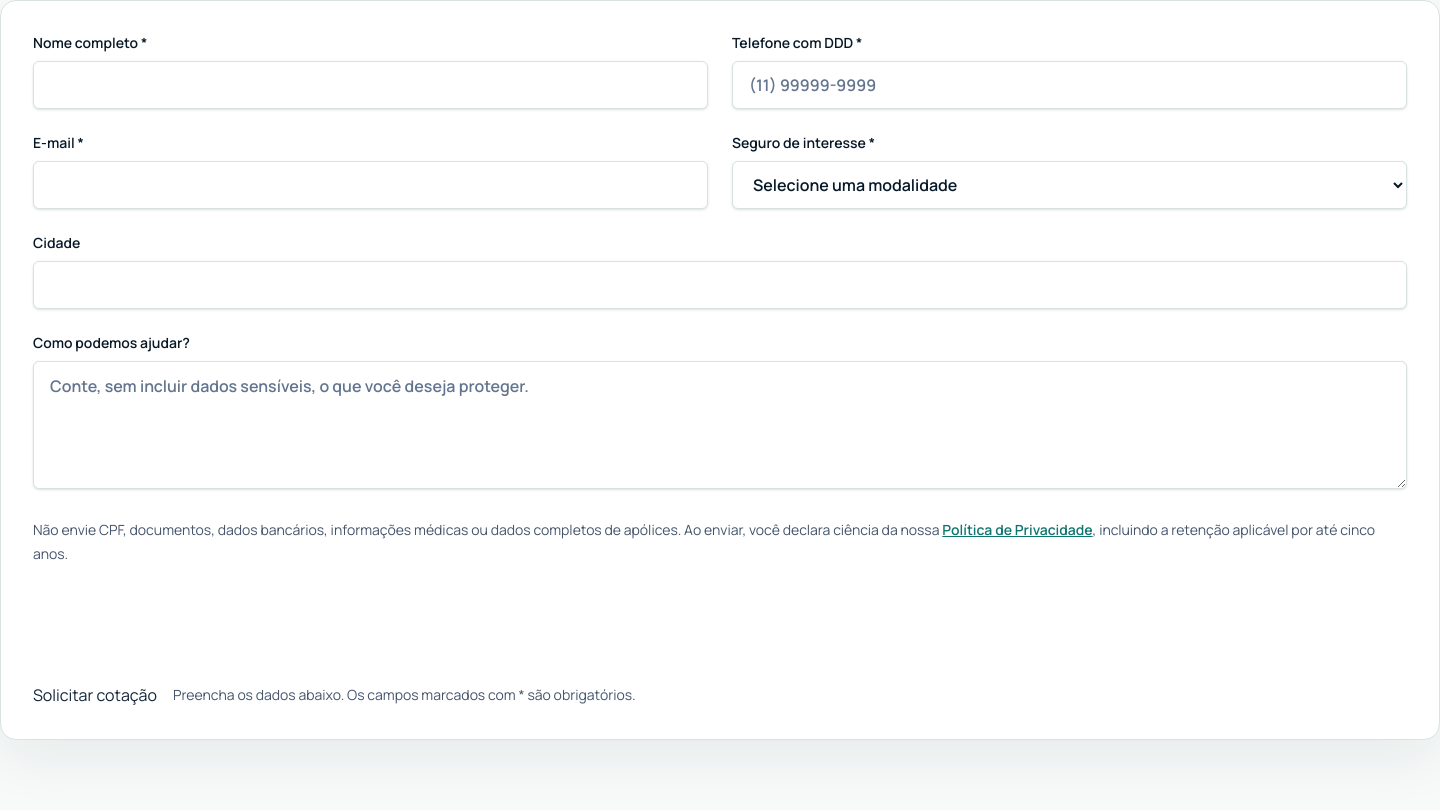
Test case: QuoteForm › envia somente após a verificação e confirma o recebimento
Type "Pessoa Exemplo" into the field labelled "Nome completo *" at (370, 85), box [33,61,708,109]
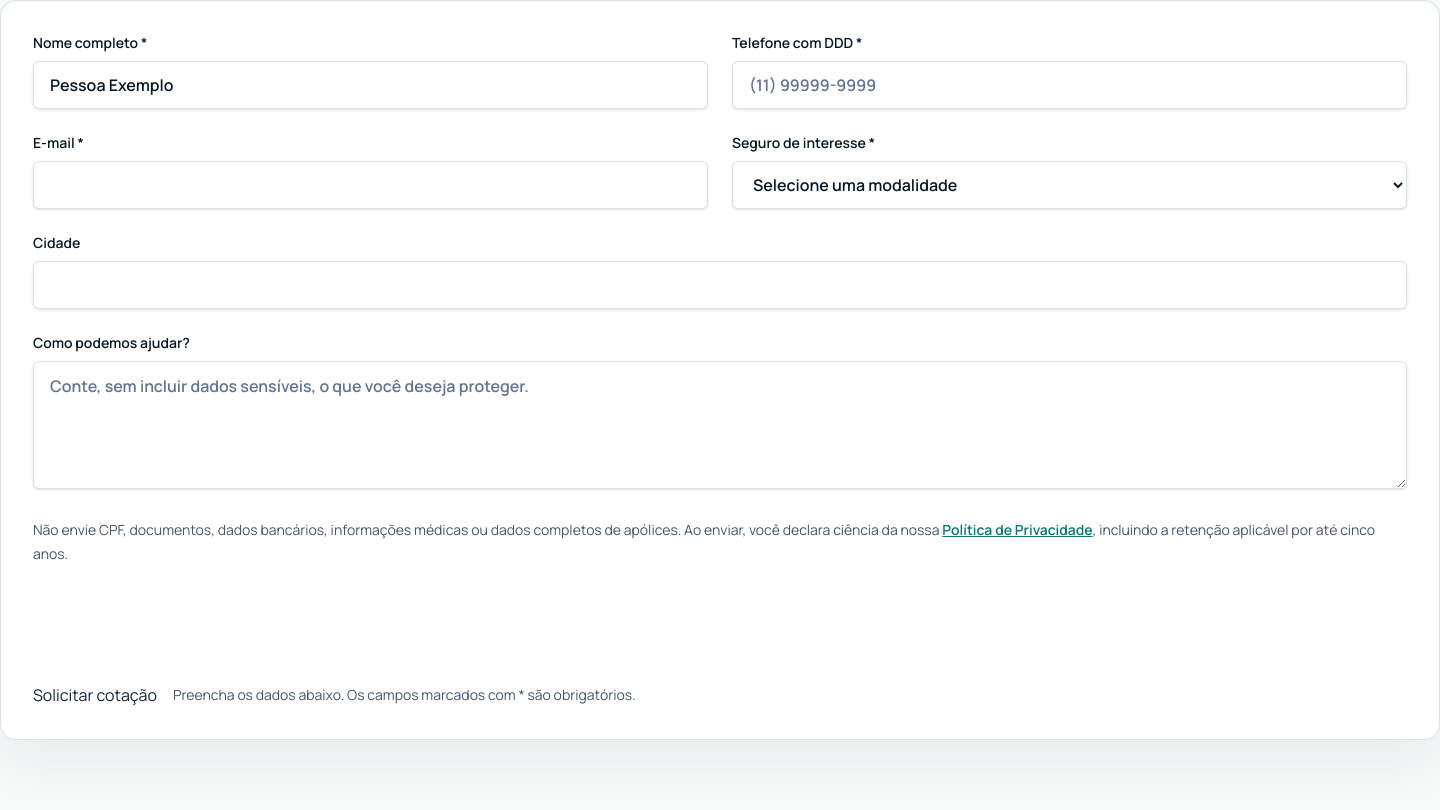
Type "(11) 99999-0000" into the field labelled "Telefone com DDD *" at (1070, 85), box [732,61,1407,109]
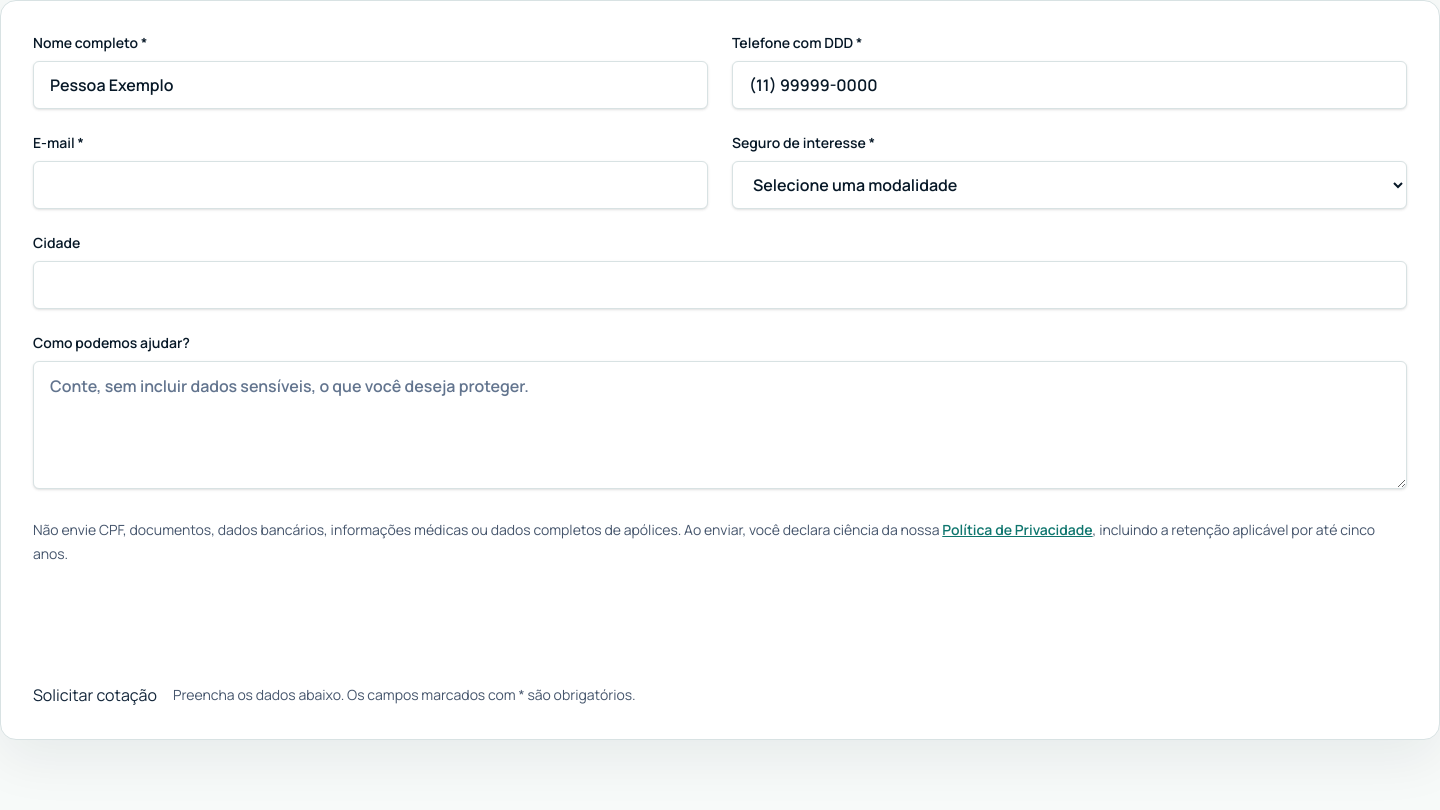
Type "pessoa@example.invalid" into the field labelled "E-mail *" at (370, 185), box [33,161,708,209]
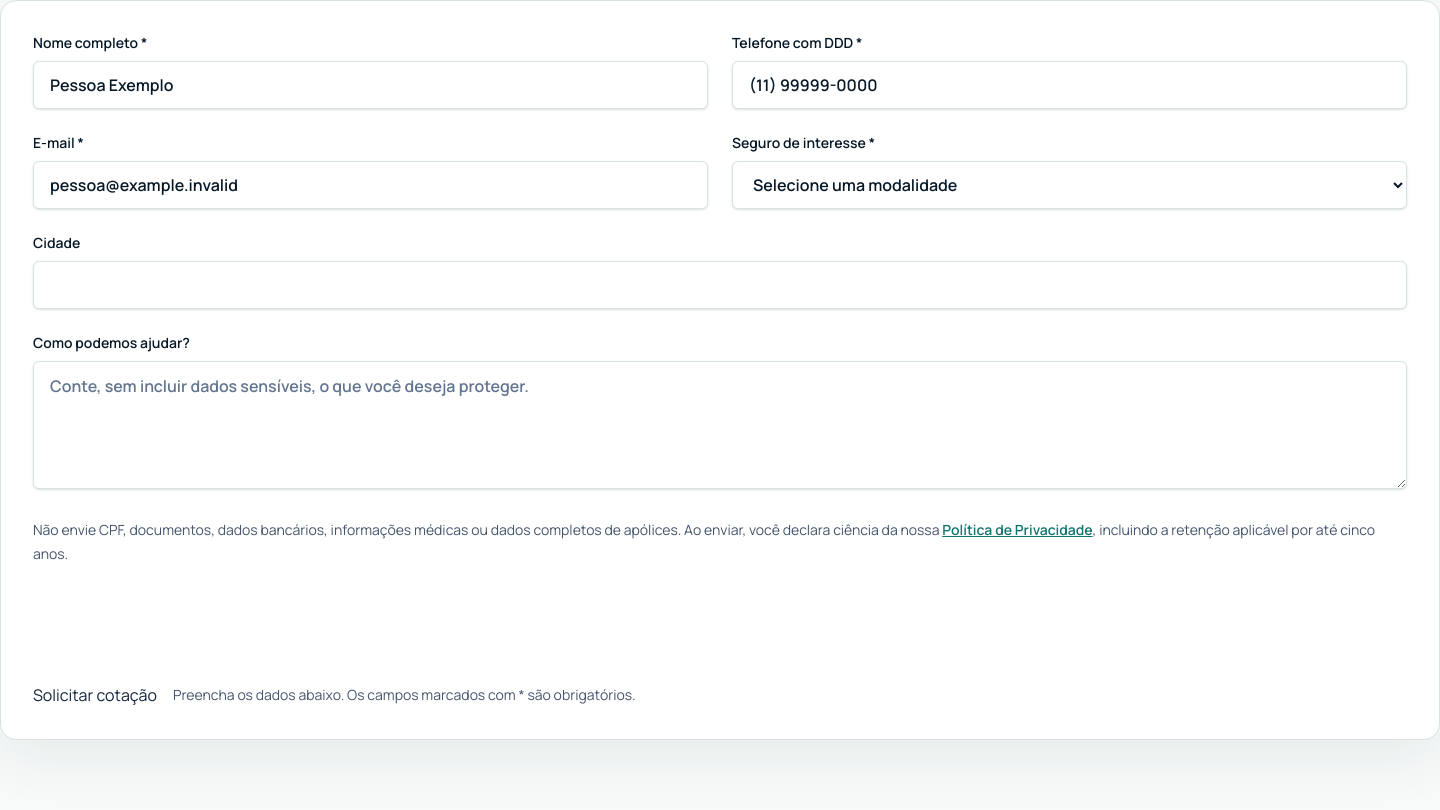
Select "Seguro Auto" in the dropdown labelled "Seguro de interesse *" at (1070, 185), box [732,161,1407,209]
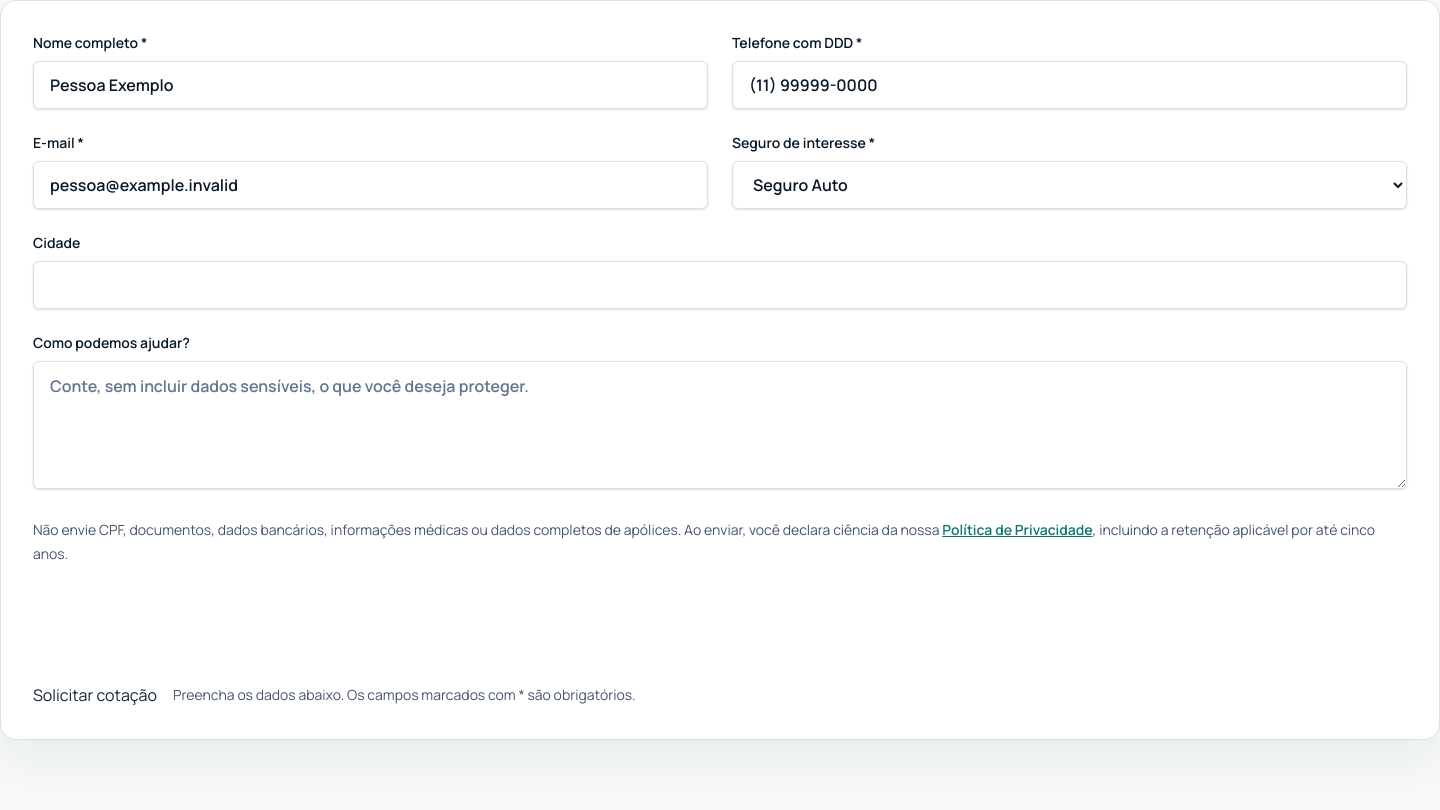
Click the button "Solicitar cotação" at (95, 695), box [33,683,157,707]
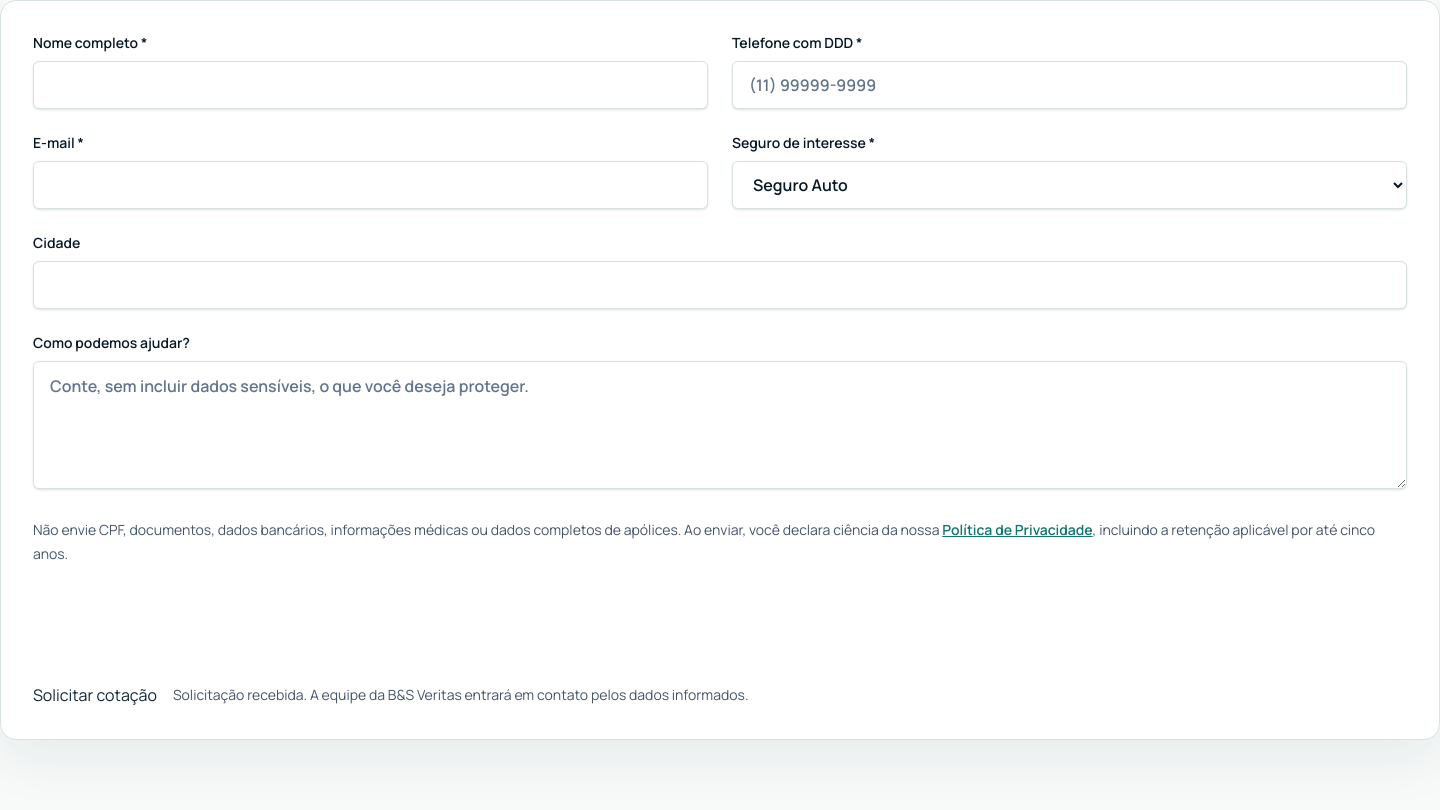
Expected: the text "Solicitação recebida" is shown, [173,685,748,704]
